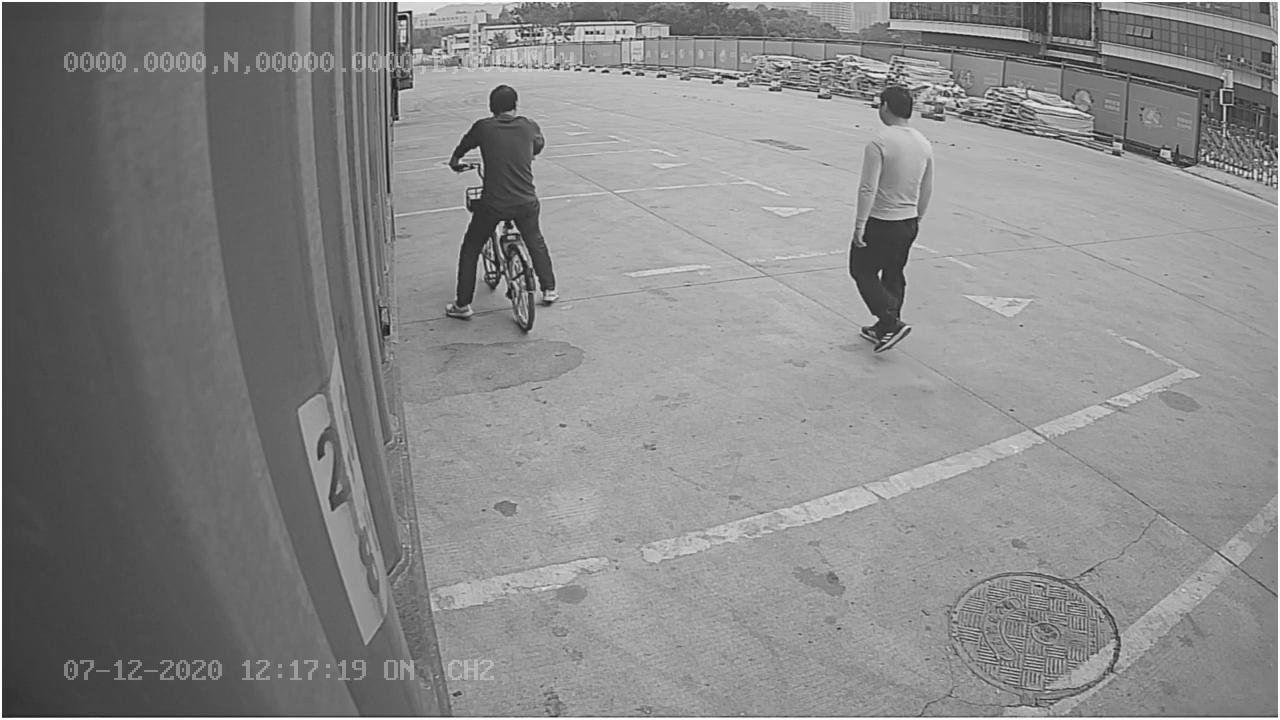person: (839, 85, 936, 354)
